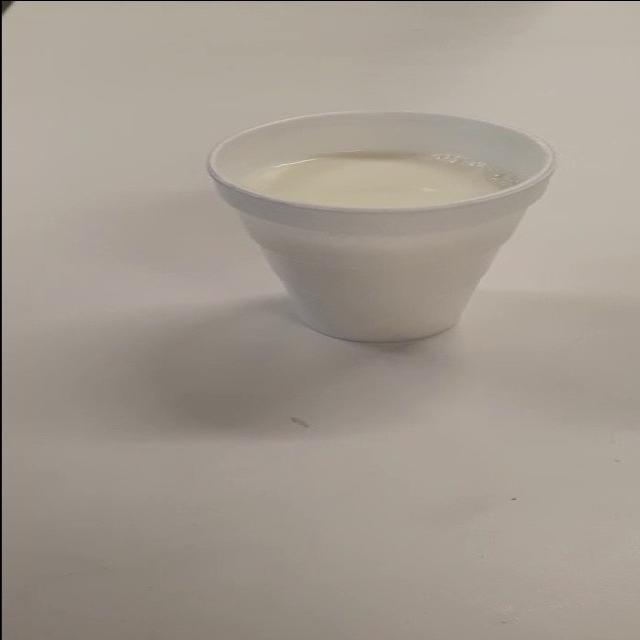Milk: (198, 91, 583, 372)
